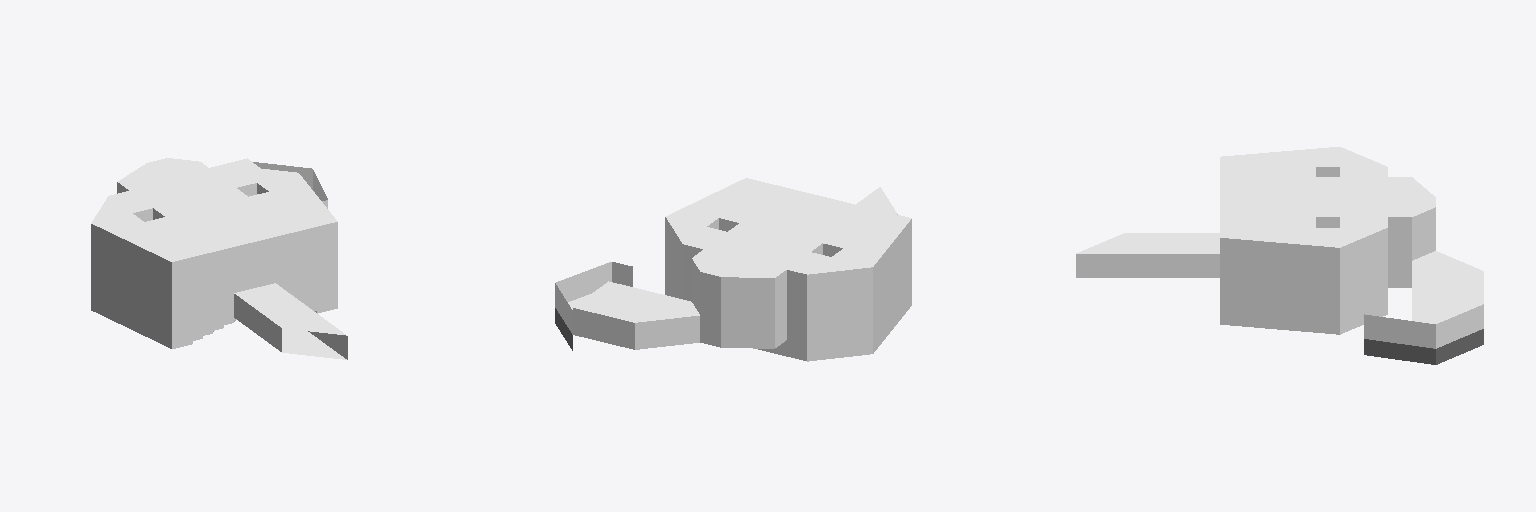
File: DOOMIIM2_IR.obj
3 renders of one model, left to right at view 1: azimuth 30°, elevation 25°; view 2: azimuth 150°, elevation 25°; view 3: azimuth 270°, elevation 25°, orthographic.
Visible parts, largest first — view 1: zonainicial, paredxd; view 2: zonainicial; view 3: zonainicial.
Boxes of the visible parts, <box> form: zonainicial: <box>91,158,347,359</box>; paredxd: <box>172,257,192,348</box>; zonainicial: <box>555,178,911,361</box>; zonainicial: <box>1076,147,1483,364</box>.
Size of the model in its own units: 67.72 by 20.9 by 88.55.